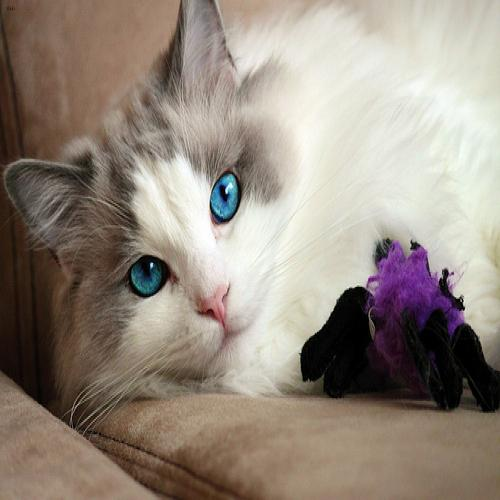ragdoll: (1, 1, 300, 388)
